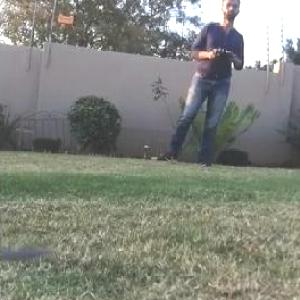follow: (160, 0, 247, 172)
